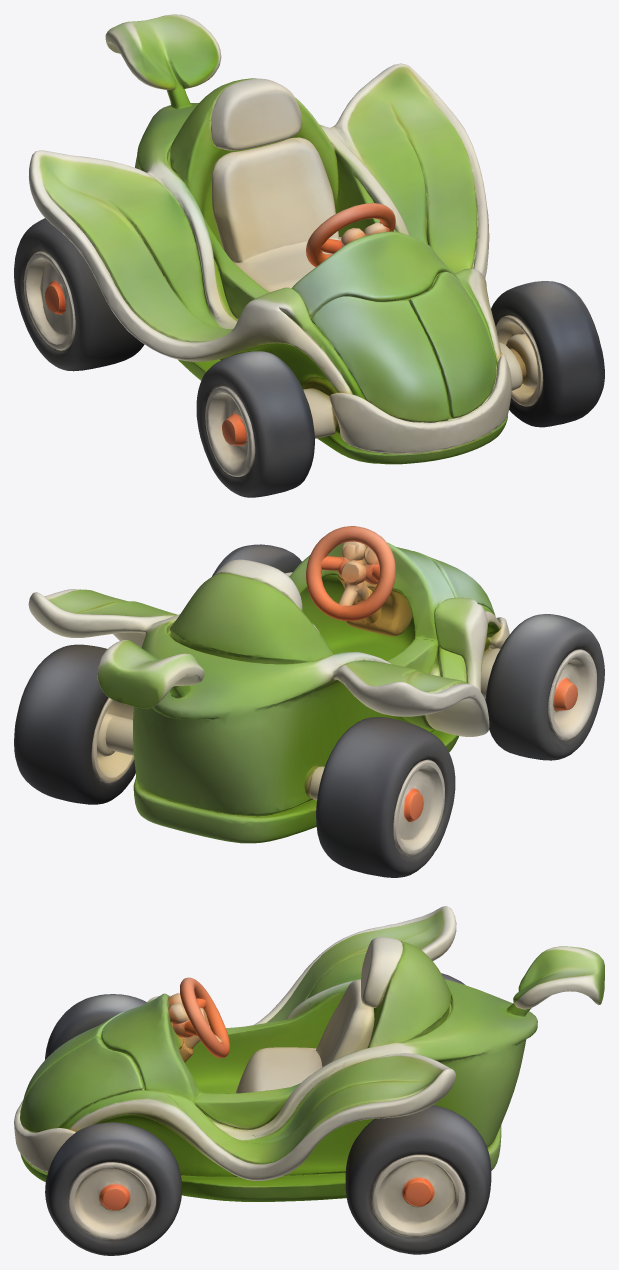
File: sprout-cartoon-source.glb
3 renders of one model, top to bottom at view 1: azimuth 30°, elevation 25°; view 2: azimuth 150°, elevation 25°; view 3: azimuth 270°, elevation 25°, orthographic. The views are drawn at different scales.
Visible parts, largest first — view 1: model; view 2: model; view 3: model.
Part boxes in pixels (bbox=[...]): model: bbox=[14, 14, 604, 497]; model: bbox=[14, 526, 604, 877]; model: bbox=[14, 906, 604, 1255].
Bounding box in the file's own units: 1.38 × 0.8516 × 1.9.
Materials: 1 (1 with a texture image).
